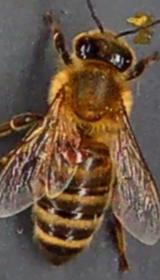varroa_mite: (62, 145, 92, 167)
